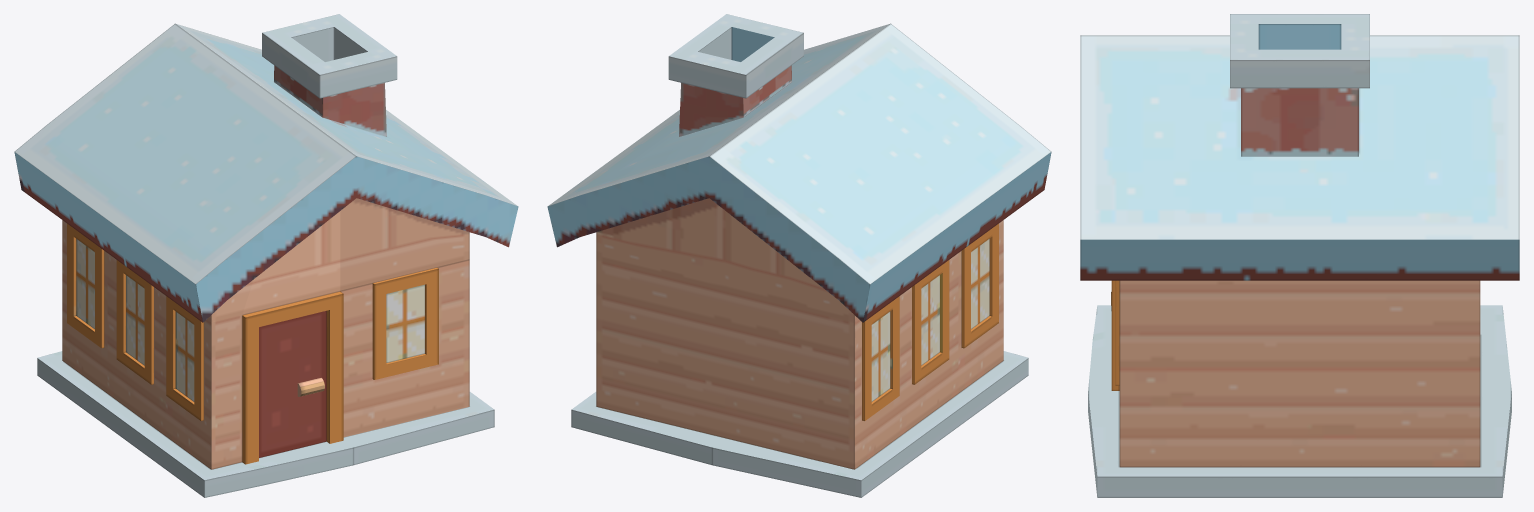
The model's file is n-house.glb.
The picture shows the model from 3 angles, left to right: view 1: azimuth 30°, elevation 25°; view 2: azimuth 150°, elevation 25°; view 3: azimuth 270°, elevation 25°; orthographic projection. The views are drawn at different scales.
Visible parts, largest first — view 1: default; view 2: default; view 3: default.
Boxes of the visible parts, x1,y1,x2,y2 form: default: (14,14,518,497); default: (547,14,1051,497); default: (1080,14,1519,497).
Size of the model in its own units: 3.59 by 3.63 by 3.5.
Materials: 1 (1 with a texture image).
